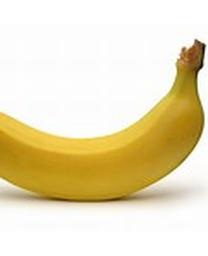banana: (0, 39, 206, 203)
